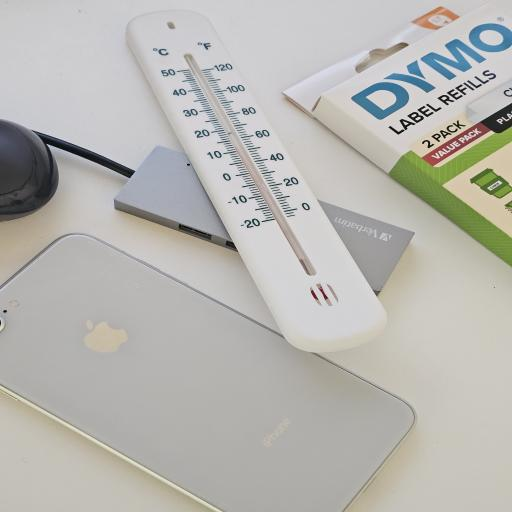thermometer: (126, 6, 387, 355)
